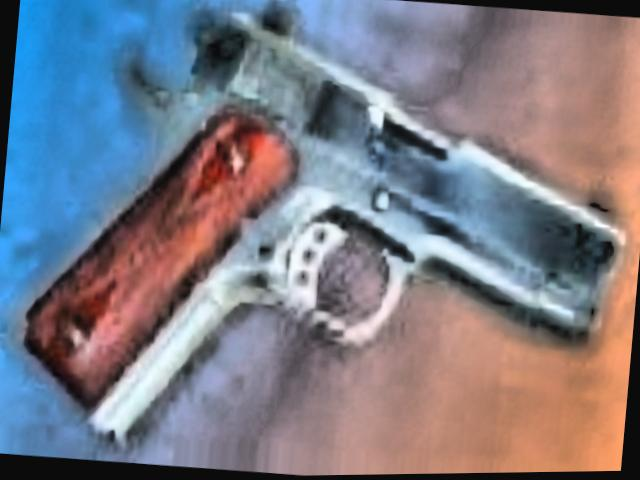pistol: (0, 0, 630, 461)
